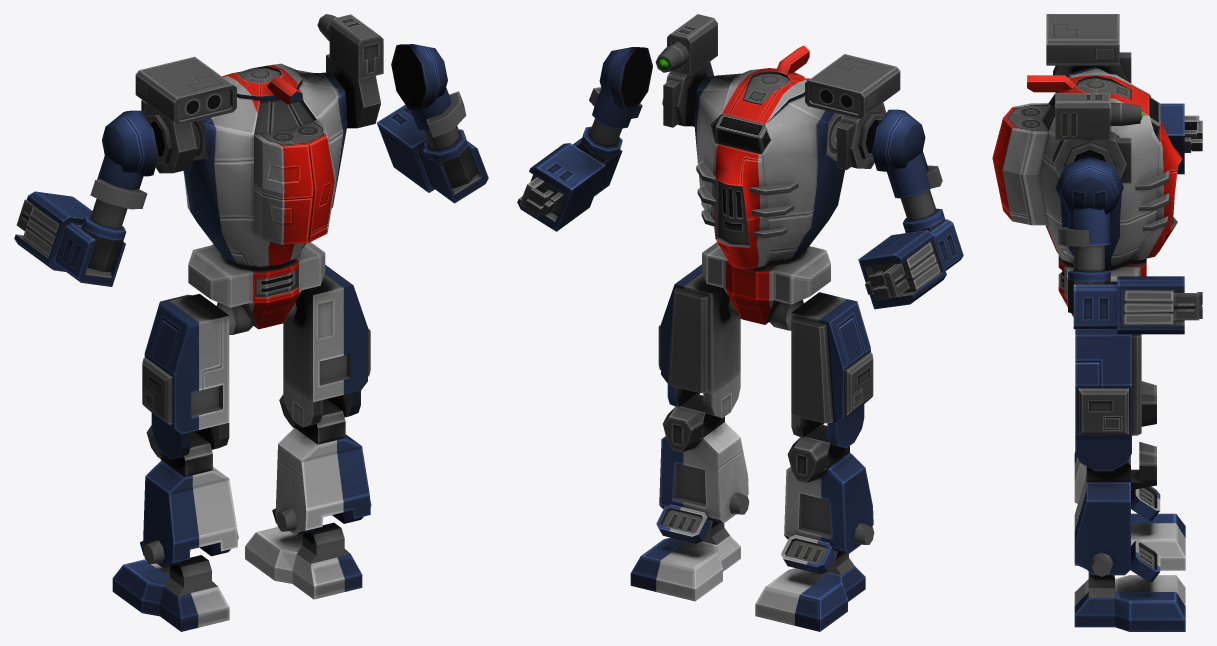
Rendered from Fireball ex.FBX.
3 renders of one model, left to right at view 1: azimuth 30°, elevation 25°; view 2: azimuth 150°, elevation 25°; view 3: azimuth 270°, elevation 25°, orthographic. The views are drawn at different scales.
Parts seen in each view (by area): view 1: torso, lupperleg01, lupperleg, llowerleg01, llowerleg, pelvis, launcher_2, lupperarm01, lupperarm, lfoot, lfoot01, llowerarm01 (+2 smaller); view 2: torso, lupperleg01, llowerleg, llowerleg01, lupperleg, pelvis, launcher_2, llowerarm01, lupperarm01, lfoot01, llowerarm, lfoot (+2 smaller); view 3: torso, lupperleg, llowerleg, llowerarm, lupperarm, lfoot, mantlet_1, launcher_2, lfoot01, llowerleg01, llowerarm01, pelvis.
Part boxes in pixels (left/top/right/bottom): torso: left=183, top=63, right=347, bottom=266; lupperleg01: left=142, top=294, right=229, bottom=459; lupperleg: left=283, top=265, right=370, bottom=427; llowerleg01: left=140, top=425, right=238, bottom=567; llowerleg: left=272, top=394, right=371, bottom=535; pelvis: left=188, top=242, right=325, bottom=334; launcher_2: left=135, top=56, right=236, bottom=173; lupperarm01: left=81, top=110, right=158, bottom=271; lupperarm: left=391, top=44, right=478, bottom=188; lfoot: left=245, top=522, right=362, bottom=599; lfoot01: left=112, top=555, right=229, bottom=631; llowerarm01: left=14, top=191, right=125, bottom=286; torso: left=694, top=45, right=844, bottom=269; lupperleg01: left=791, top=292, right=873, bottom=448; llowerleg: left=656, top=394, right=749, bottom=543; llowerleg01: left=781, top=424, right=874, bottom=573; lupperleg: left=658, top=264, right=740, bottom=418; pelvis: left=702, top=242, right=830, bottom=330; launcher_2: left=805, top=54, right=900, bottom=169; llowerarm01: left=858, top=219, right=963, bottom=309; lupperarm01: left=872, top=109, right=945, bottom=232; lfoot01: left=755, top=550, right=865, bottom=631; llowerarm: left=517, top=138, right=622, bottom=231; lfoot: left=630, top=520, right=740, bottom=601; torso: left=992, top=66, right=1181, bottom=266; lupperleg: left=1075, top=329, right=1141, bottom=471; llowerleg: left=1074, top=442, right=1160, bottom=581; llowerarm: left=1073, top=276, right=1202, bottom=334; lupperarm: left=1055, top=156, right=1123, bottom=313; lfoot: left=1074, top=572, right=1185, bottom=631; mantlet_1: left=1053, top=93, right=1143, bottom=183; launcher_2: left=1046, top=14, right=1131, bottom=82; lfoot01: left=1074, top=513, right=1185, bottom=570; llowerleg01: left=1074, top=381, right=1160, bottom=520; llowerarm01: left=1160, top=103, right=1202, bottom=174; pelvis: left=1058, top=255, right=1146, bottom=316.
Bounding box in the file's own units: 42.45 × 53.72 × 19.33.
1 material, 1 textured.
